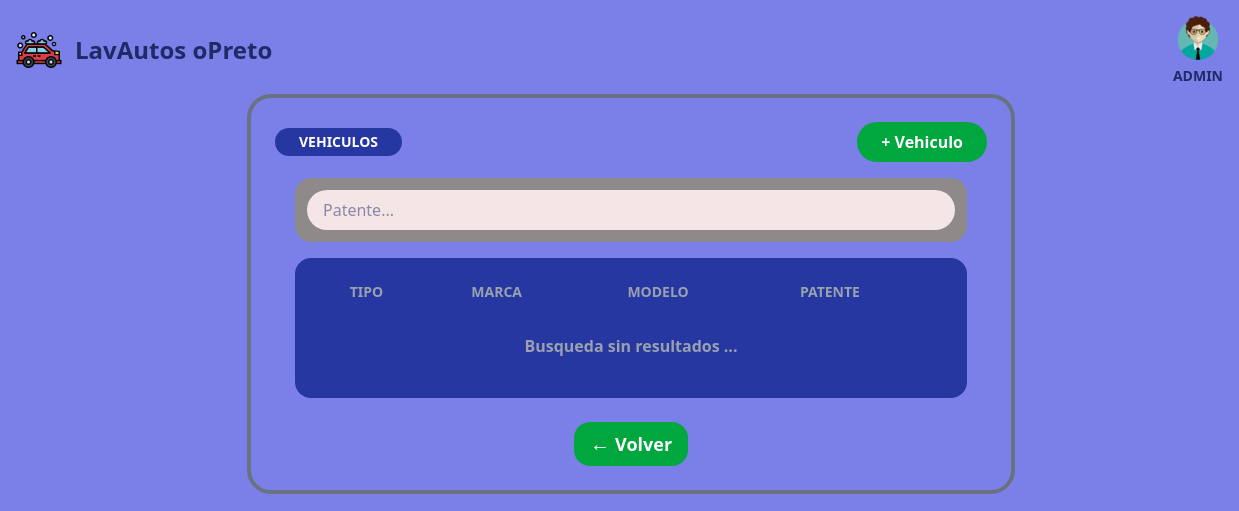
it: VehiculosPage › busca por parte de la patente
Step 1. Type "122" into the field named "Buscar vehiculos" → (631, 210), box [307,190,955,230]
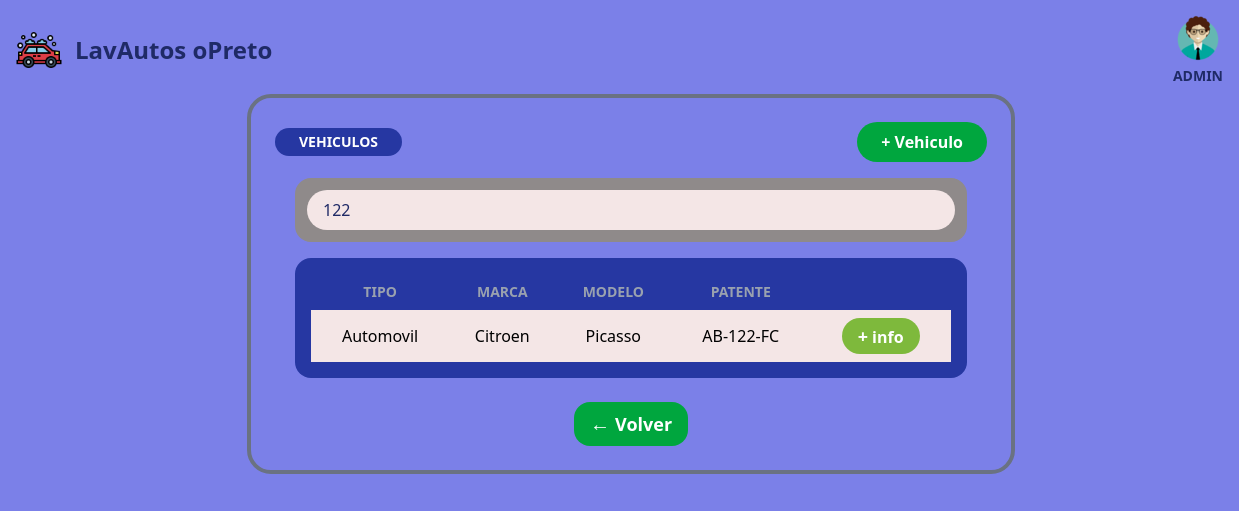
expect the text "AB-122-FC" is shown: met, box [671,310,810,362]
